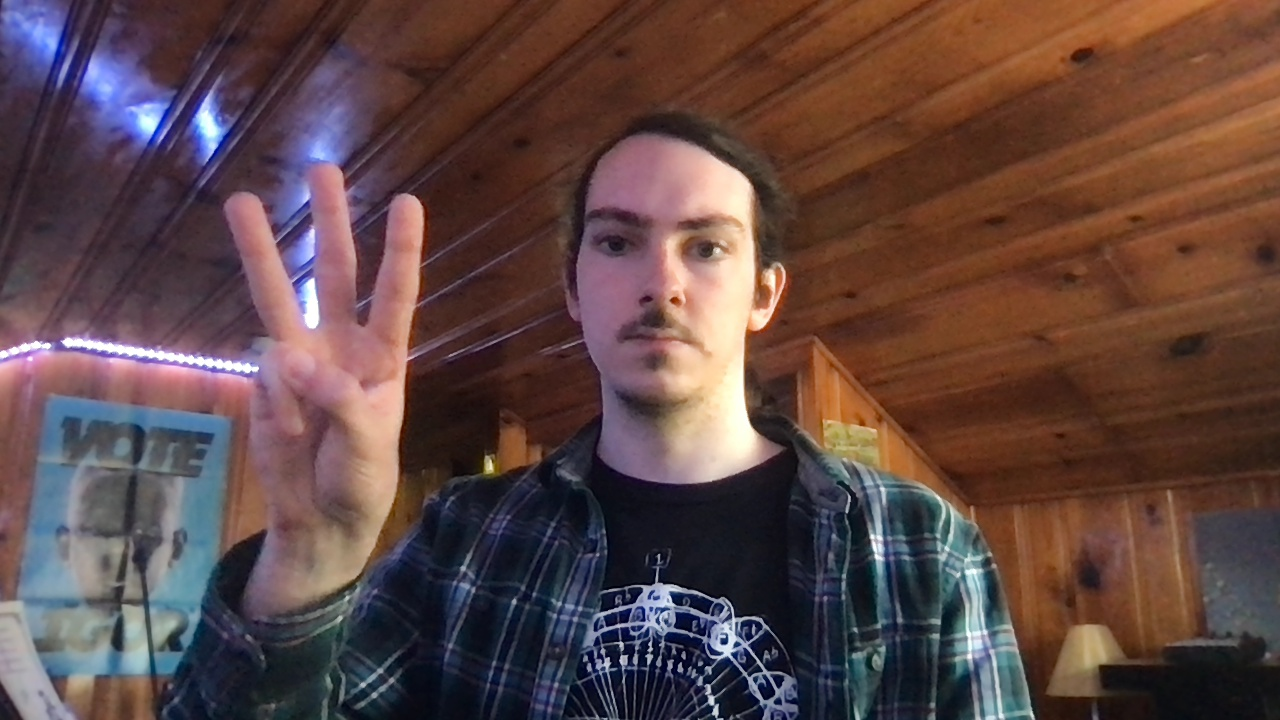w: (222, 161, 424, 540)
